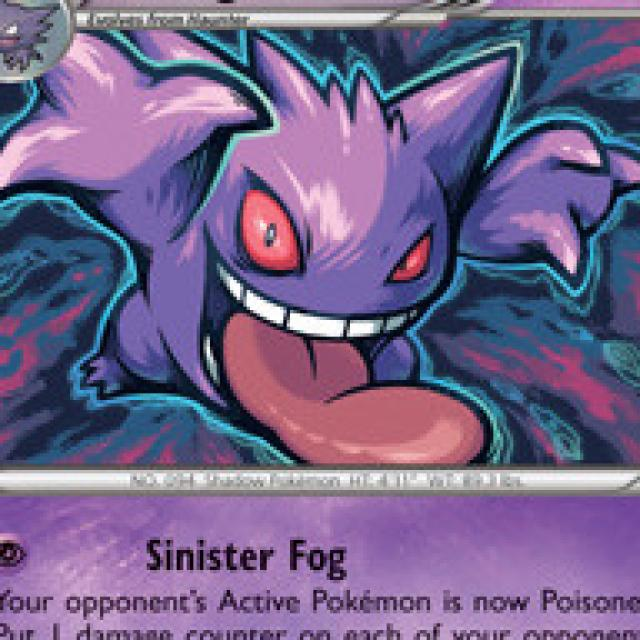Gengar: (80, 31, 571, 432)
